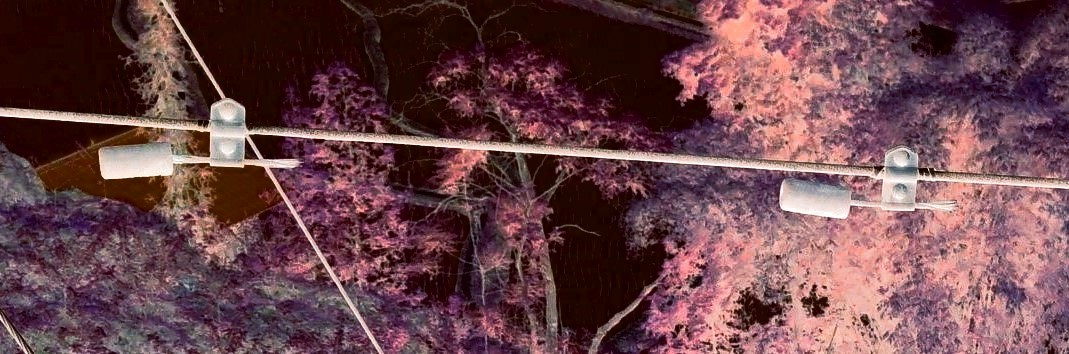Damage of shockproof hammer: (84, 97, 323, 195), (767, 138, 970, 230)
